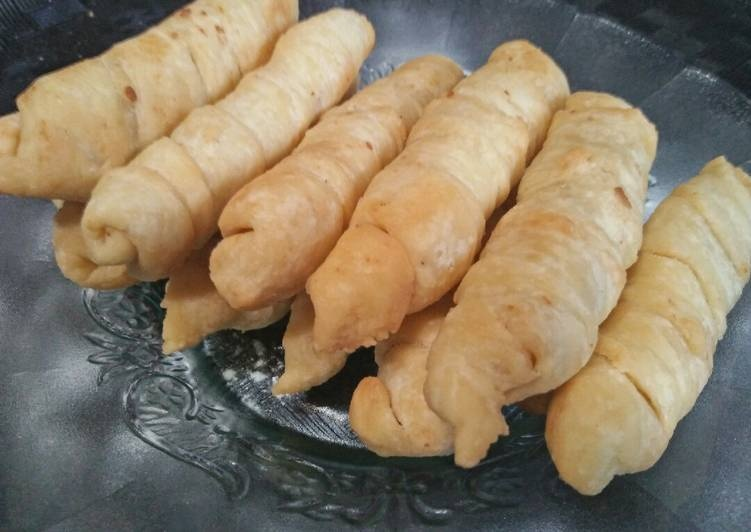pisang_molen: (421, 90, 660, 465), (313, 38, 569, 372), (80, 7, 374, 287)
